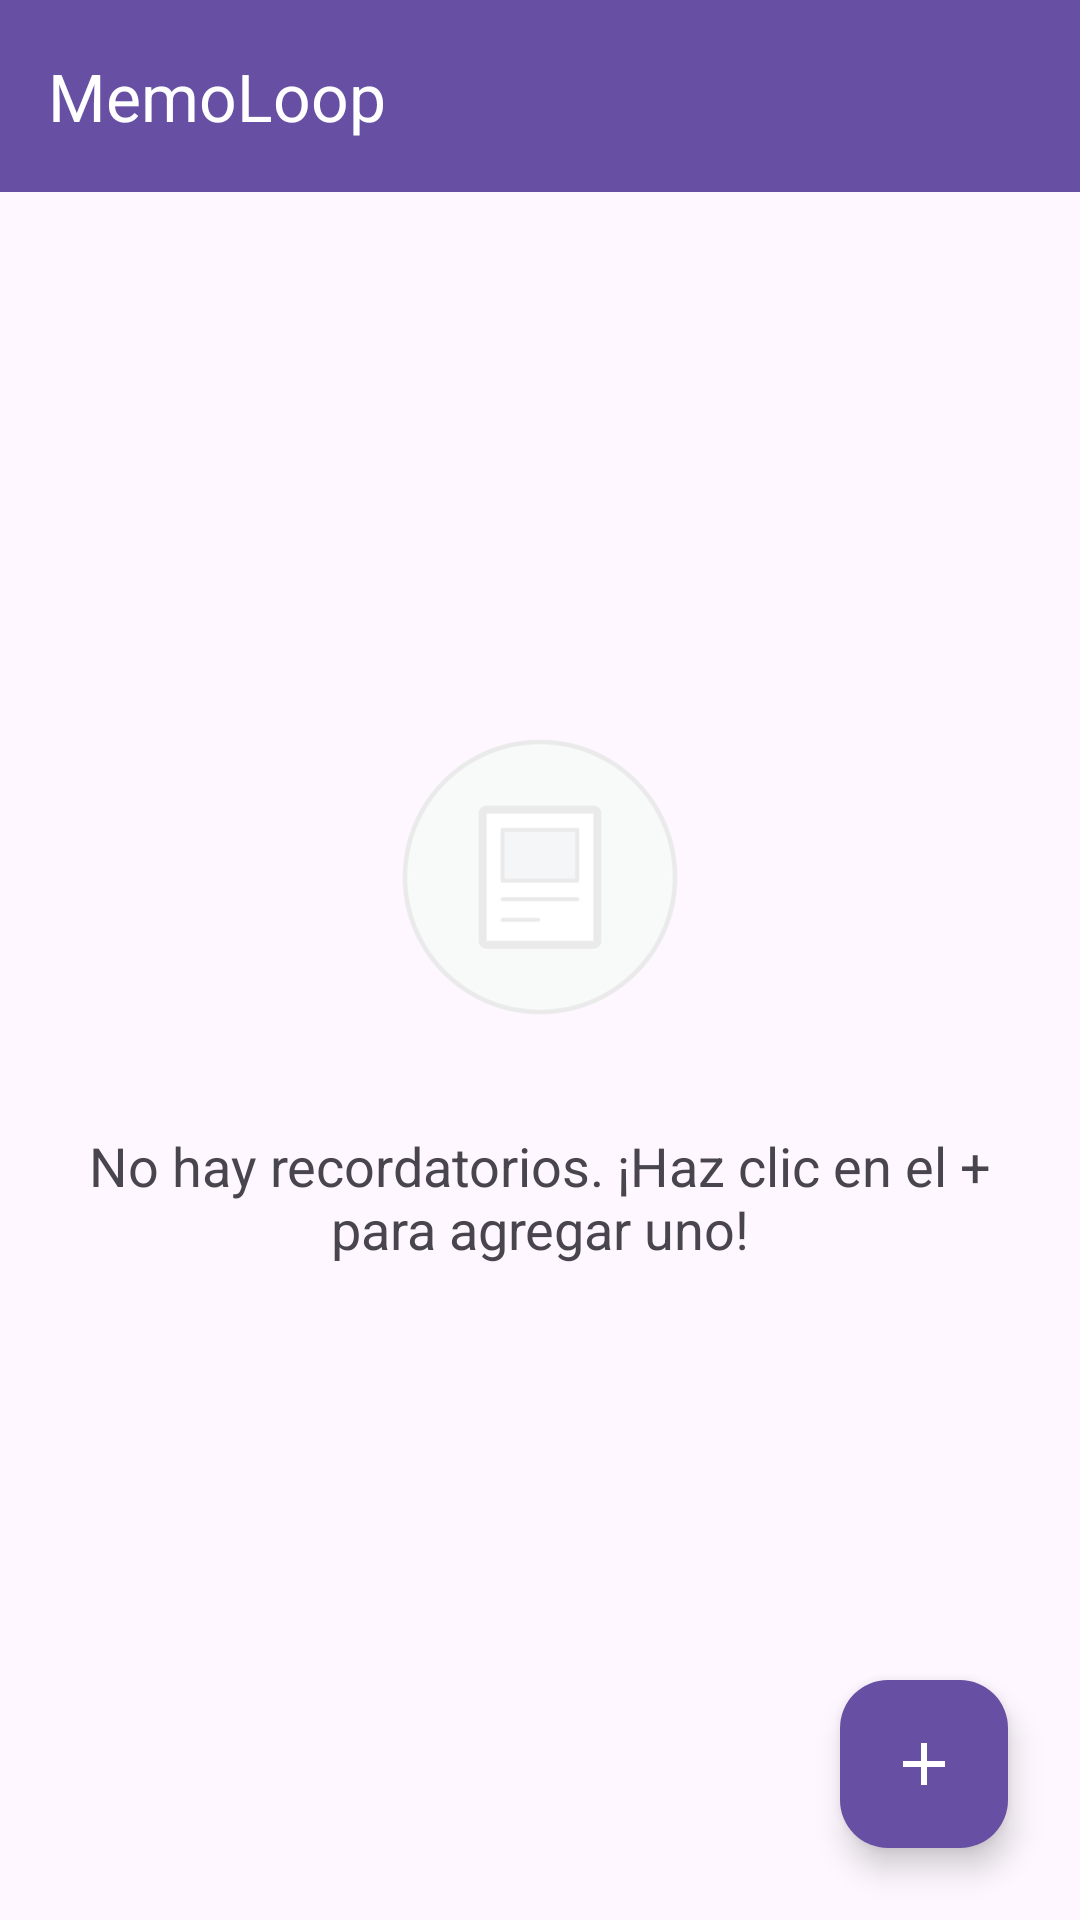

Icon click points for this 1080×1920 phone screenshot, format (x=x, y=y):
Agregar nuevo recordatorio: (x=924, y=1764)
